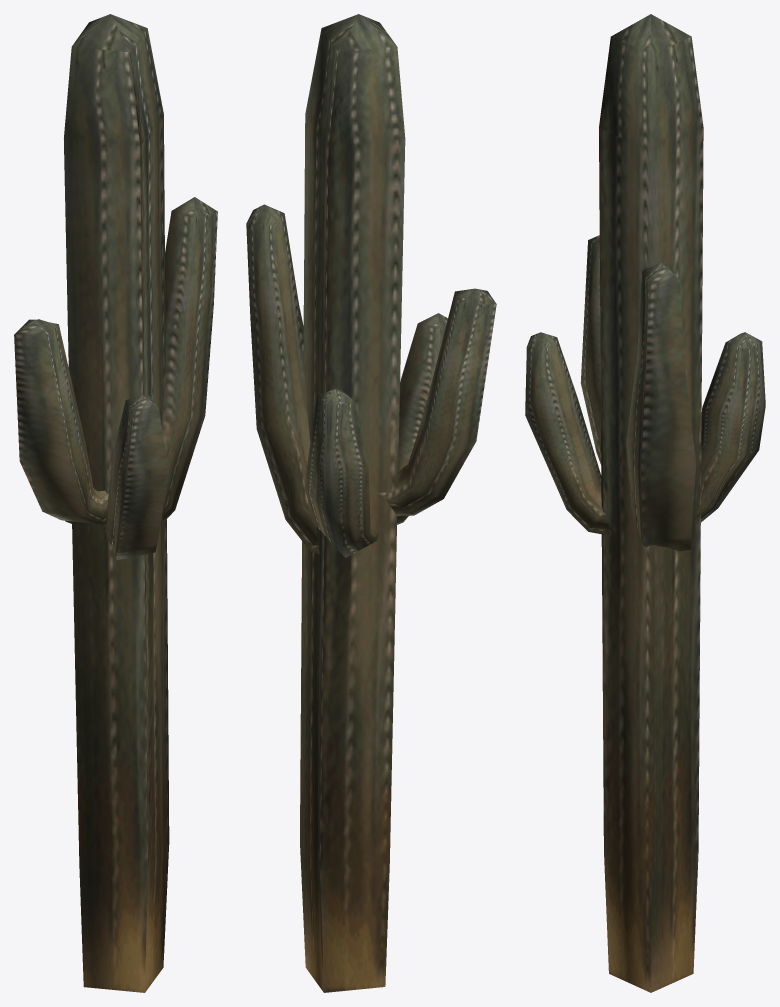
The model's file is SC_tamalagebi_17.FBX.
3 renders of one model, left to right at view 1: azimuth 30°, elevation 25°; view 2: azimuth 150°, elevation 25°; view 3: azimuth 270°, elevation 25°, orthographic.
Parts seen in each view (by area): view 1: SC_tamalagebi_17; view 2: SC_tamalagebi_17; view 3: SC_tamalagebi_17.
Boxes of the visible parts, x1,y1,x2,y2 form: SC_tamalagebi_17: (14,14,217,992); SC_tamalagebi_17: (246,14,496,992); SC_tamalagebi_17: (525,14,765,992).
Bounding box in the file's own units: 93.34 × 385 × 88.16.
